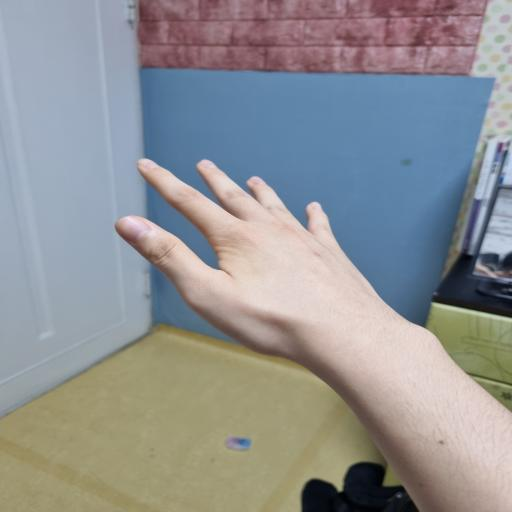Paper: (114, 157, 432, 364)
